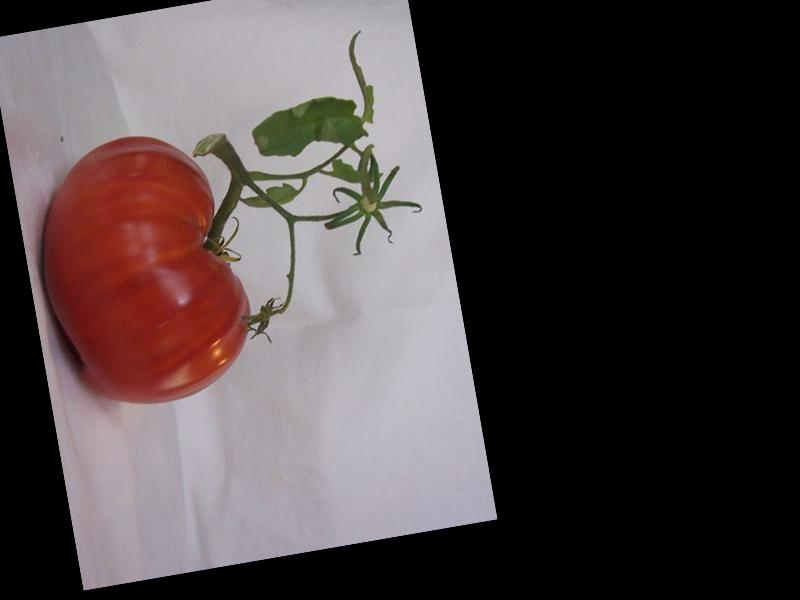Tomato: (21, 120, 262, 419)
